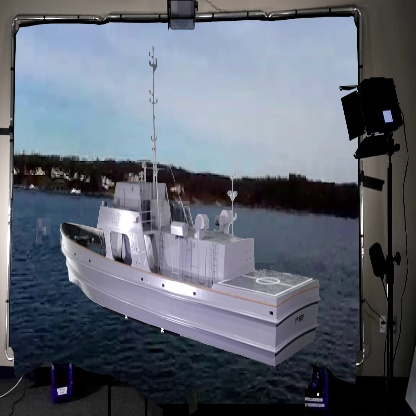YP689: (59, 46, 324, 369)
